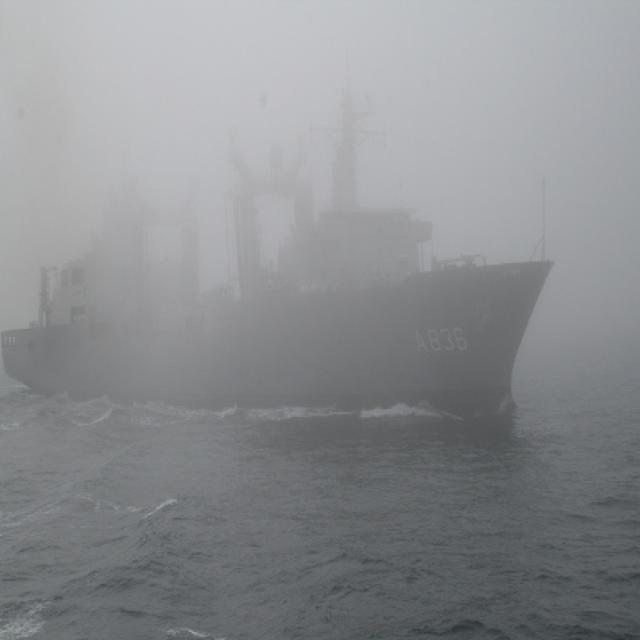cargoship: (29, 76, 569, 456)
